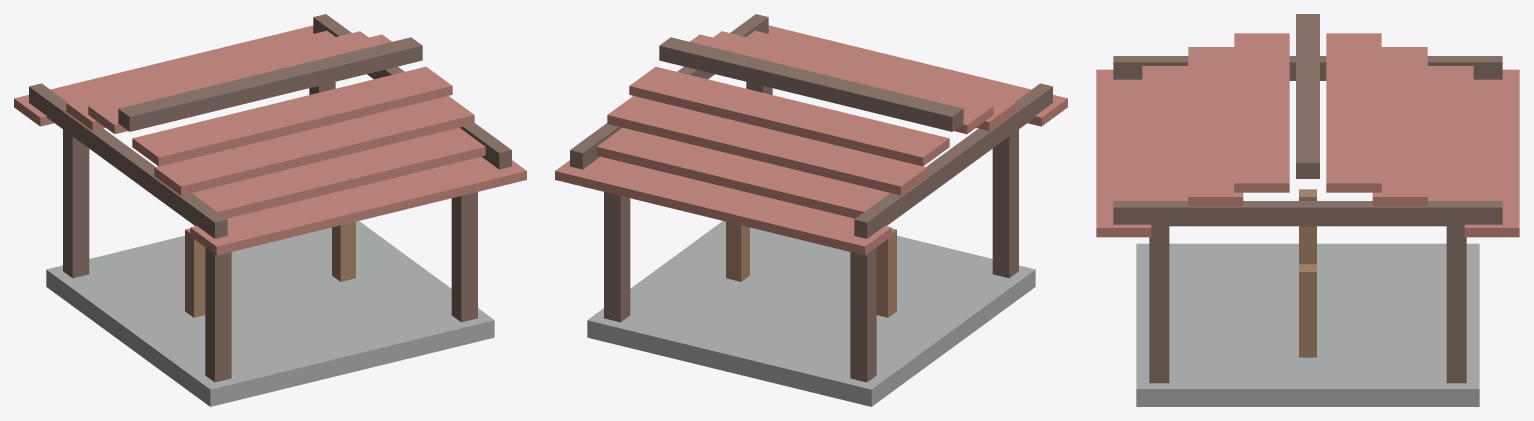
The model's file is training_pavilion_6m.glb.
The picture shows the model from 3 angles, left to right: view 1: azimuth 30°, elevation 25°; view 2: azimuth 150°, elevation 25°; view 3: azimuth 270°, elevation 25°; orthographic projection. The views are drawn at different scales.
Parts seen in each view (by area): view 1: roof_red, stone, wood_dark, wood; view 2: roof_red, stone, wood_dark, wood; view 3: roof_red, stone, wood_dark, wood.
Part boxes in pixels (box(x1,y1,x2,y2)): roof_red: box(14, 25, 526, 255); stone: box(46, 221, 494, 406); wood_dark: box(29, 14, 511, 382); wood: box(185, 221, 355, 317); roof_red: box(555, 25, 1067, 255); stone: box(587, 221, 1035, 406); wood_dark: box(570, 14, 1052, 382); wood: box(726, 221, 896, 317); roof_red: box(1096, 33, 1519, 237); stone: box(1136, 243, 1479, 406); wood_dark: box(1113, 14, 1502, 383); wood: box(1299, 189, 1316, 357).
Bounding box in the file's own units: 6.55 × 4.74 × 7.41.
